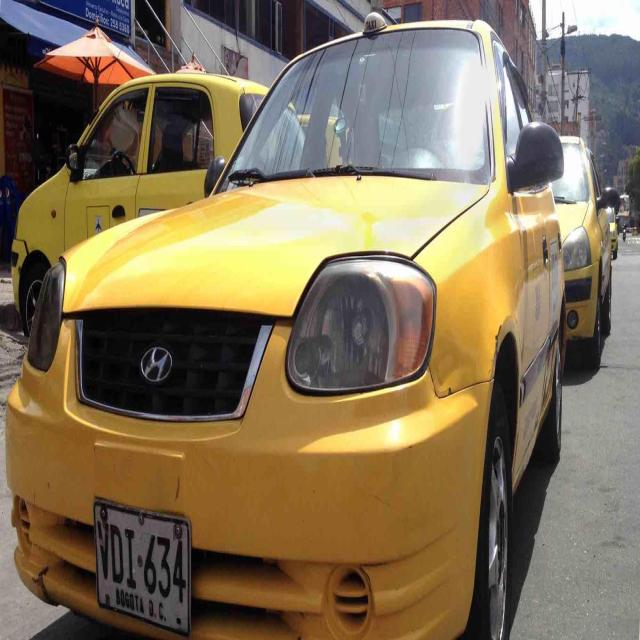Taxi: (70, 16, 566, 640)
